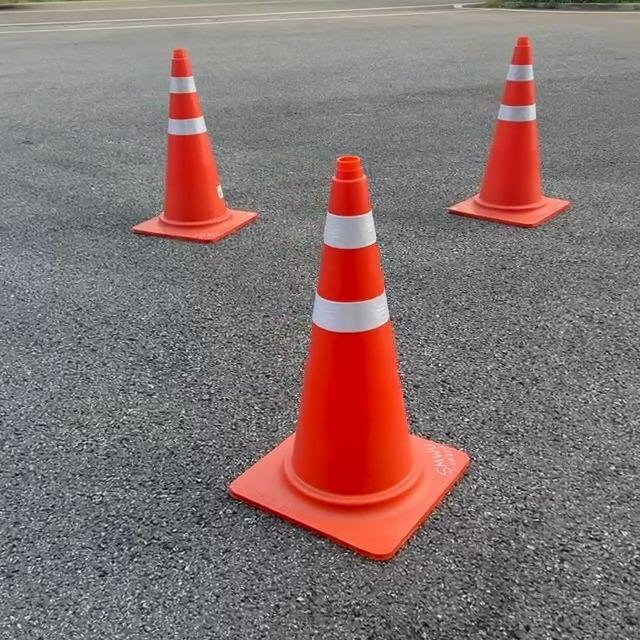fallen_object: (170, 125, 469, 590), (77, 46, 275, 261), (463, 39, 594, 235)
